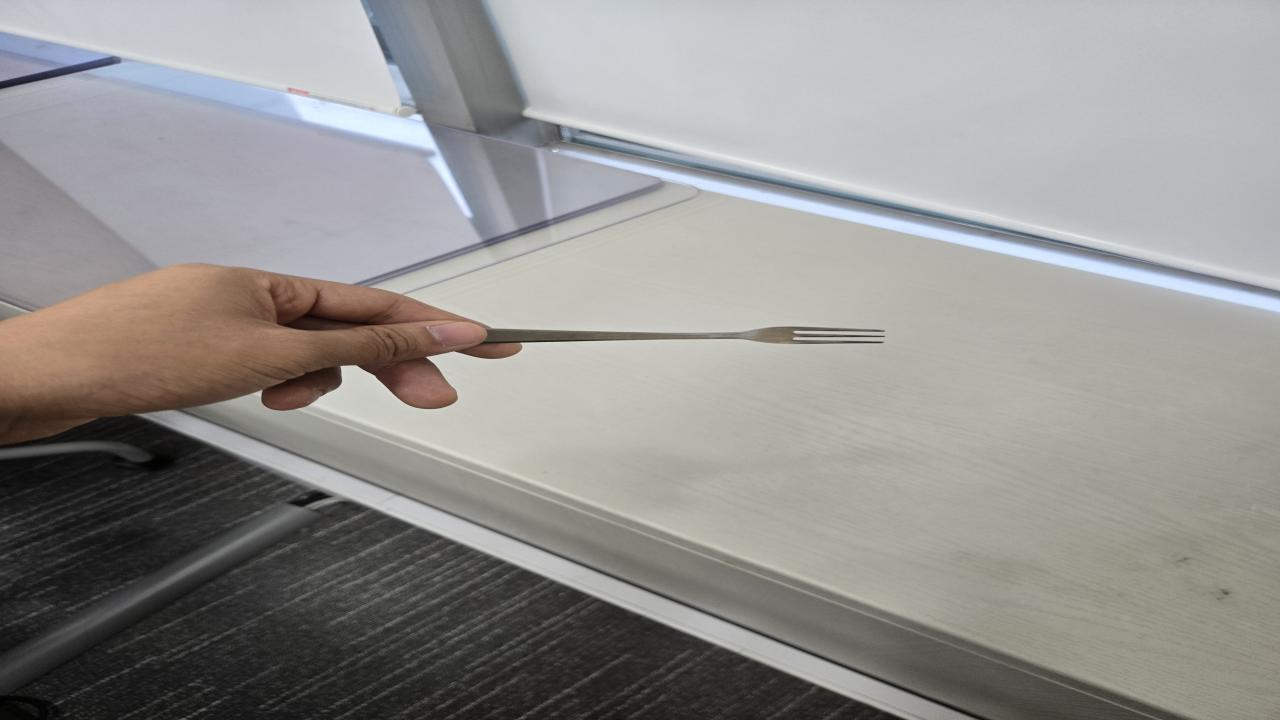fork: (494, 326, 892, 345)
